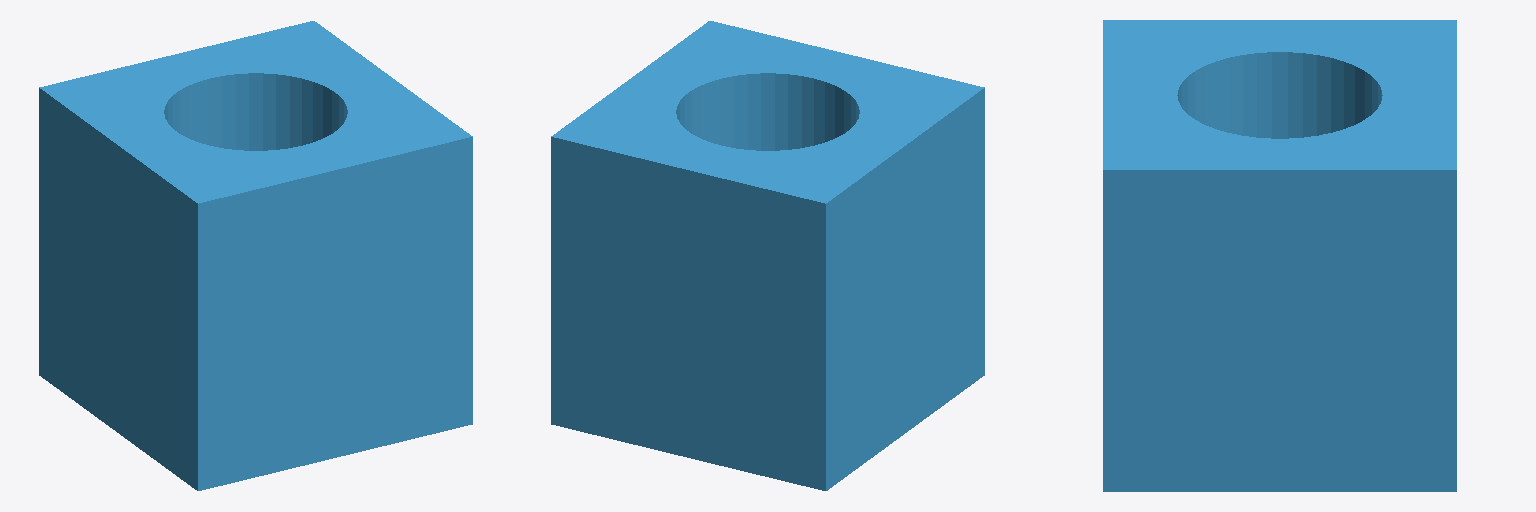
The robot description file, URDF, robot "hole_0001":
<robot name="hole_0001">
  <link name="world"></link>

  <joint name="base_joint" type="fixed">
  <origin xyz="0 0 0" rpy="0 0 0"/>
  <parent link="world"/>
  <child link="hole_0001"/>
  </joint>

  <link name="hole_0001">
    <inertial>
      <origin xyz="0.0 0.0 0.035" rpy="1.570759 0 0"/>
      <mass value="0.228" />
      <inertia  ixx="0.0004921003" ixy="0.0"  ixz="0.0"  iyy="0.0002367729"  iyz="0.0"  izz="0.0004921003" />
    </inertial>
    <visual>
      <origin xyz="0.0 0.0 0.0" rpy="1.570759 0 0"/>
	<geometry>
		<mesh filename="package://sawyer_sim_examples/models/peg_hole/STL/rigid_hole_0001.STL" scale="0.001 0.001 0.001"/>
	</geometry>
    </visual>
    <collision>
      <origin xyz="0.0 0.0 0.0" rpy="1.570759 0 0"/>
	<geometry>
		<mesh filename="package://sawyer_sim_examples/models/peg_hole/STL/rigid_hole_0001.STL" scale="0.001 0.001 0.001"/>
	</geometry>
    </collision>
  </link>
  <gazebo reference="hole_0001">
    <material>Gazebo/Blue</material>
    <static>true</static>
     <mu1>10.0</mu1>
     <mu2>10.0</mu2>
  </gazebo>
</robot>

--- Render facts (derived) ---
3 views of the same robot in one strip: view 1: azimuth 30°, elevation 25°; view 2: azimuth 150°, elevation 25°; view 3: azimuth 270°, elevation 25° (orthographic).
Model hole_0001 with 2 links and 1 joints (1 fixed), rooted at world, posed all joints at 0.
Visible links, largest first — view 1: hole_0001; view 2: hole_0001; view 3: hole_0001.
Link boxes in pixels (<box>): hole_0001: <box>39,21,472,490</box>; hole_0001: <box>551,21,984,490</box>; hole_0001: <box>1103,20,1456,491</box>.
Bounding box of the posed robot: 0.07 × 0.07 × 0.07 m (x, y, z).
Meshes: 1 distinct files referenced, 1 mesh visuals loaded (1 binary STL).